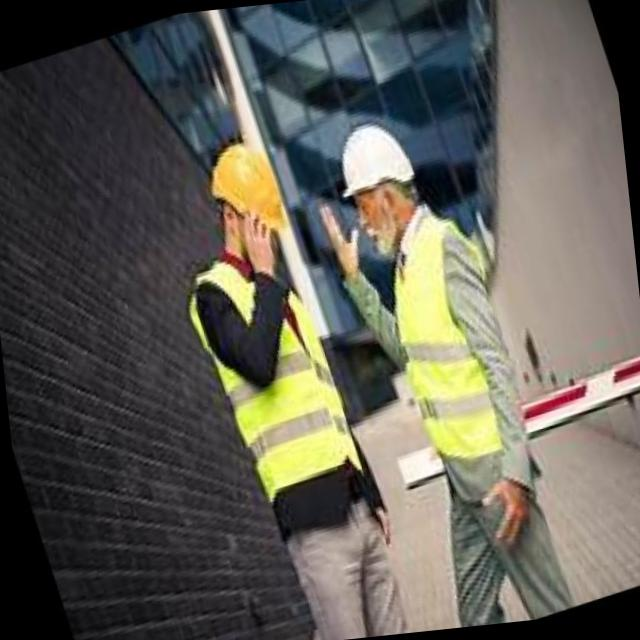not-gloved: (471, 458, 552, 565), (233, 191, 299, 285), (317, 185, 373, 284)
